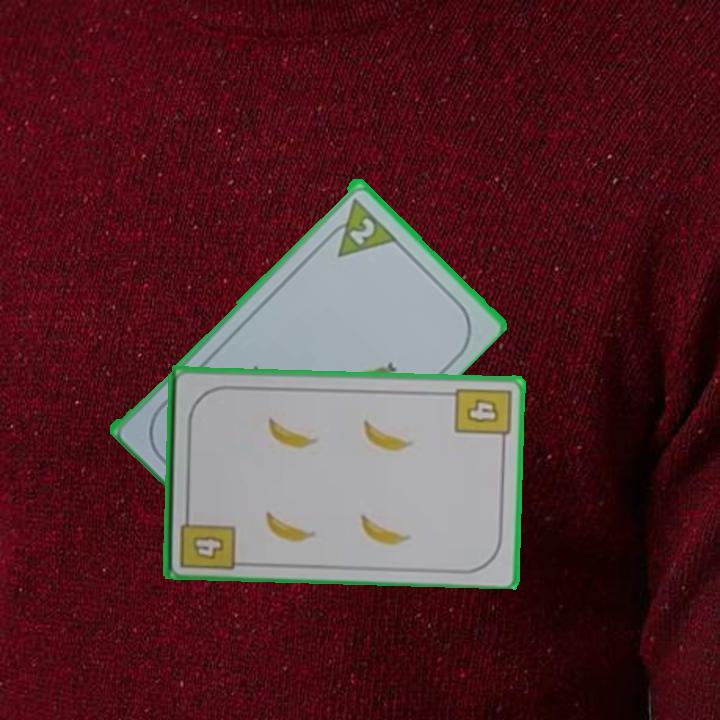2p: (319, 194, 398, 260)
4b: (175, 505, 237, 572), (451, 384, 514, 448)
